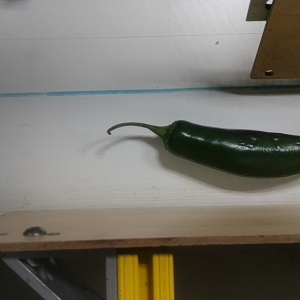Cut Point: (155, 115, 191, 157)
